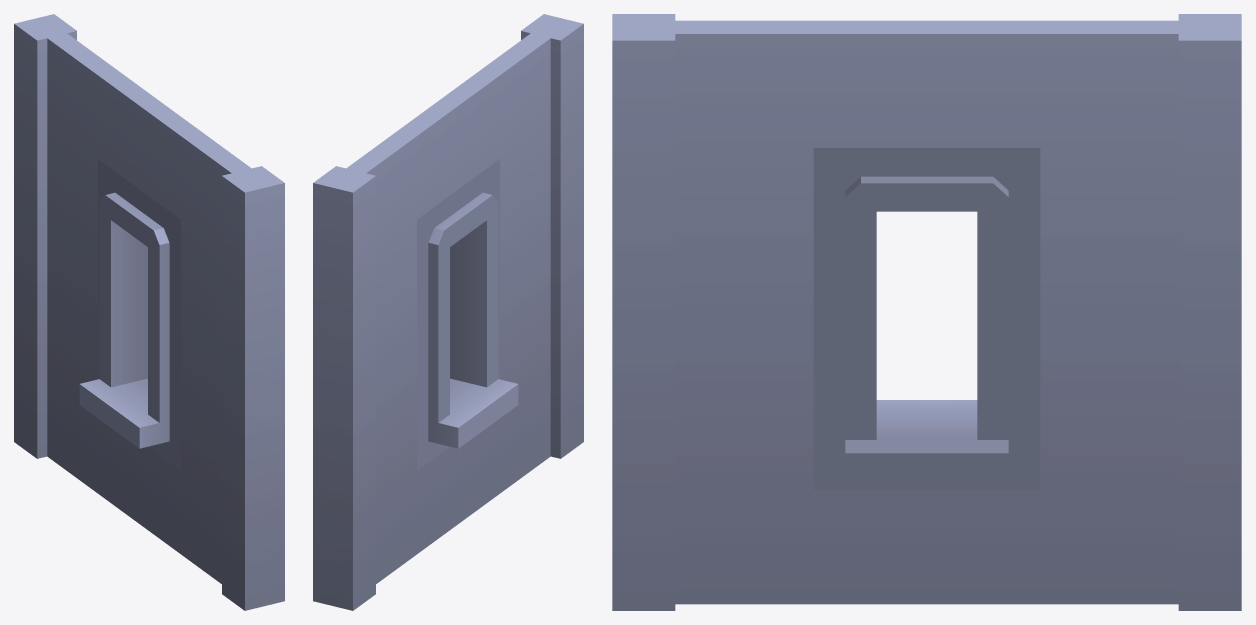
Rendered from wall-wood-window-small.glb.
3 renders of one model, left to right at view 1: azimuth 30°, elevation 25°; view 2: azimuth 150°, elevation 25°; view 3: azimuth 270°, elevation 25°, orthographic. The views are drawn at different scales.
Parts seen in each view (by area): view 1: wall-wood-window-small; view 2: wall-wood-window-small; view 3: wall-wood-window-small.
Part boxes in pixels (x1,y1,x2,y2): wall-wood-window-small: [14, 14, 284, 610]; wall-wood-window-small: [313, 14, 583, 610]; wall-wood-window-small: [612, 14, 1241, 610].
Bounding box in the file's own units: 0.2 × 1 × 1.
1 material, 1 textured.
